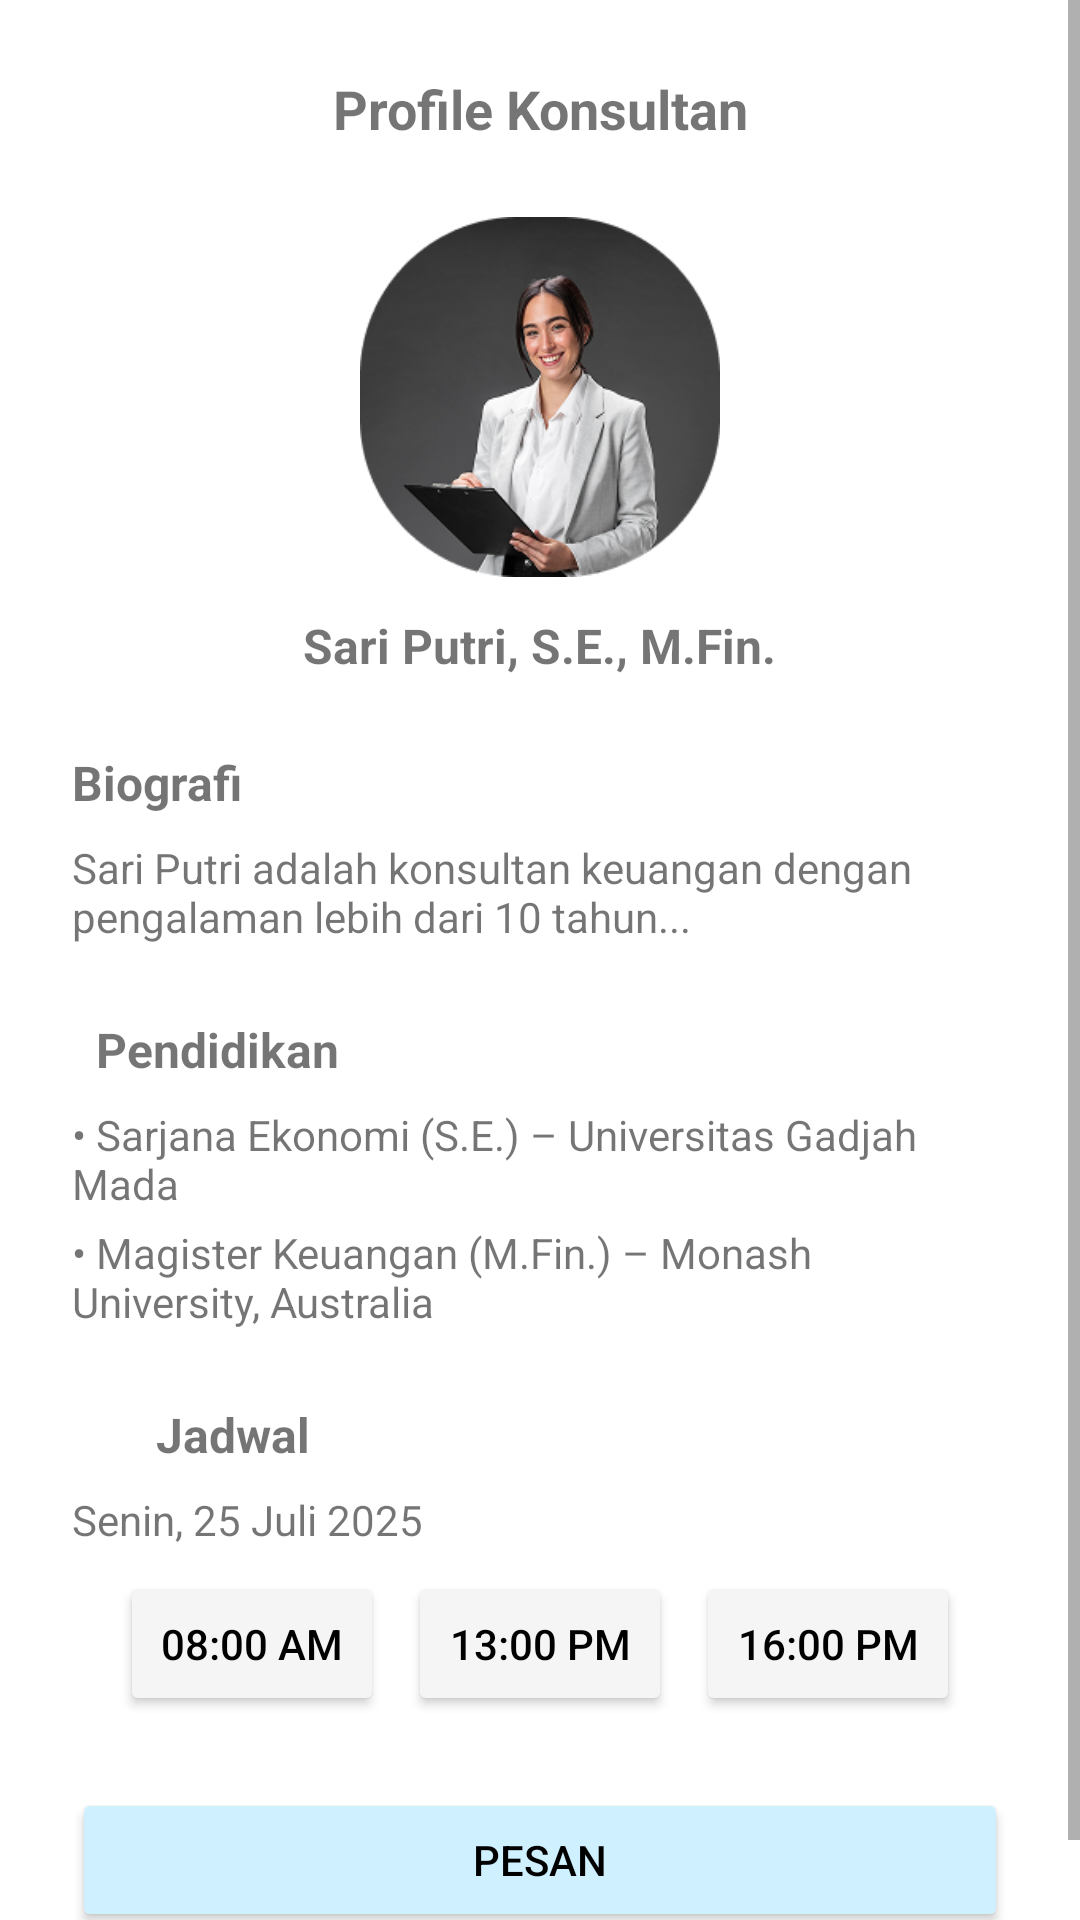

Screen size 1080px x 1920px. Icon name, then its box in pixels as (x1, y1, x2, y2):
cewe: (360, 217, 720, 577)
